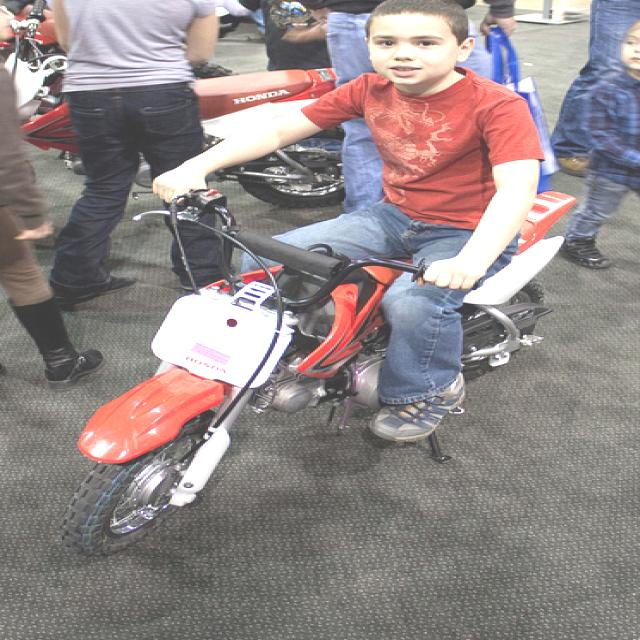Vehicle: (58, 190, 565, 548), (204, 95, 356, 201), (192, 67, 337, 125)
